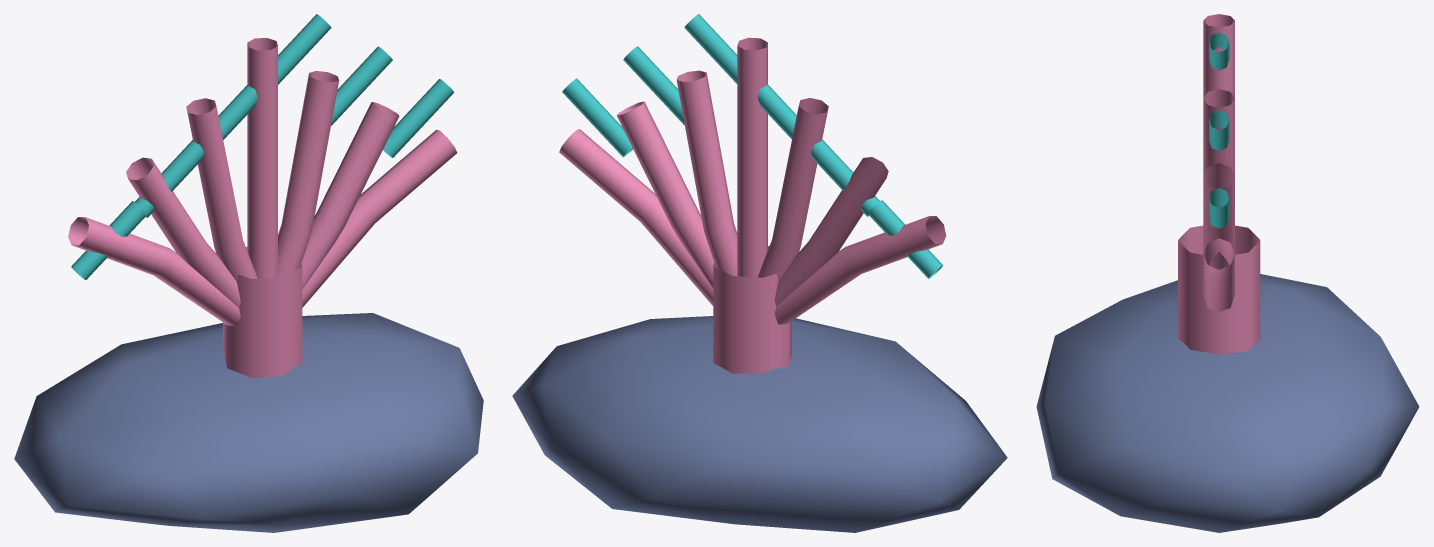
Rendered from r009_reef_coral_flower_hybrid_coral_02.glb.
3 renders of one model, left to right at view 1: azimuth 30°, elevation 25°; view 2: azimuth 150°, elevation 25°; view 3: azimuth 270°, elevation 25°, orthographic.
Visible parts, largest first — view 1: r009_reef_coral_flower_hybrid_coral_02.001; view 2: r009_reef_coral_flower_hybrid_coral_02.001; view 3: r009_reef_coral_flower_hybrid_coral_02.001.
Boxes of the visible parts, x1,y1,x2,y2 form: r009_reef_coral_flower_hybrid_coral_02.001: (14,14,483,532); r009_reef_coral_flower_hybrid_coral_02.001: (512,14,1007,532); r009_reef_coral_flower_hybrid_coral_02.001: (1036,14,1419,532).
Bounding box in the file's own units: 2.71 × 2.76 × 2.04.
